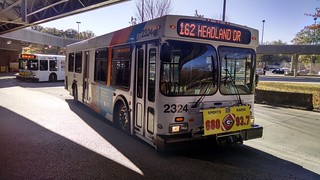bus: (64, 15, 263, 151), (17, 52, 65, 82)
